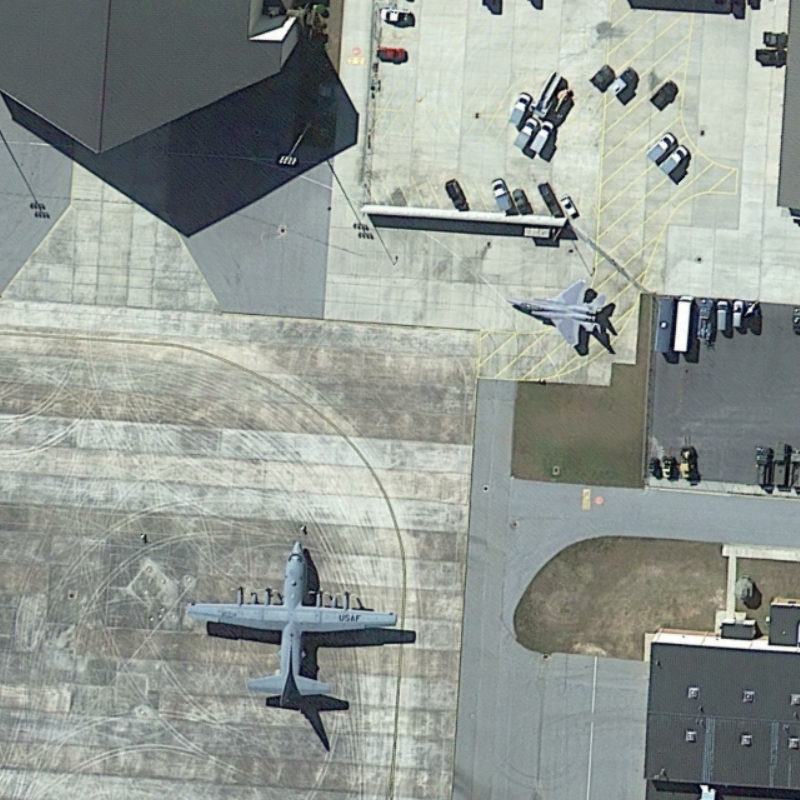A13: (501, 276, 611, 355)
A2: (179, 532, 403, 708)
